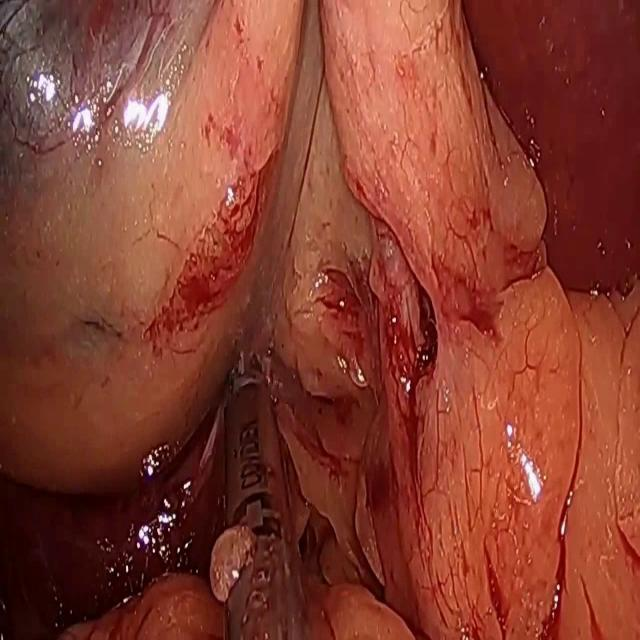surgical-tool: (226, 353, 306, 639)
